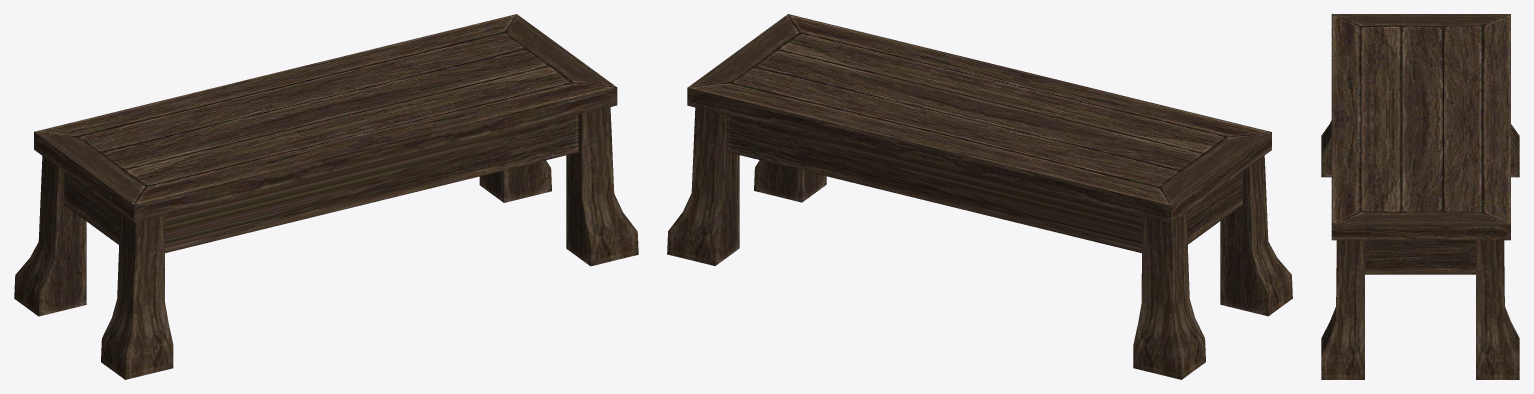
Rendered from eso_gu2_woodfurniture7-transformed.glb.
3 renders of one model, left to right at view 1: azimuth 30°, elevation 25°; view 2: azimuth 150°, elevation 25°; view 3: azimuth 270°, elevation 25°, orthographic. The views are drawn at different scales.
Parts seen in each view (by area): view 1: default; view 2: default; view 3: default.
Part boxes in pixels (box(x1,y1,x2,y2)): default: box(14, 14, 638, 379); default: box(667, 14, 1292, 379); default: box(1321, 14, 1519, 379).
Size of the model in its own units: 1.94 by 0.601 by 0.7256.
Materials: 1 (1 with a texture image).
